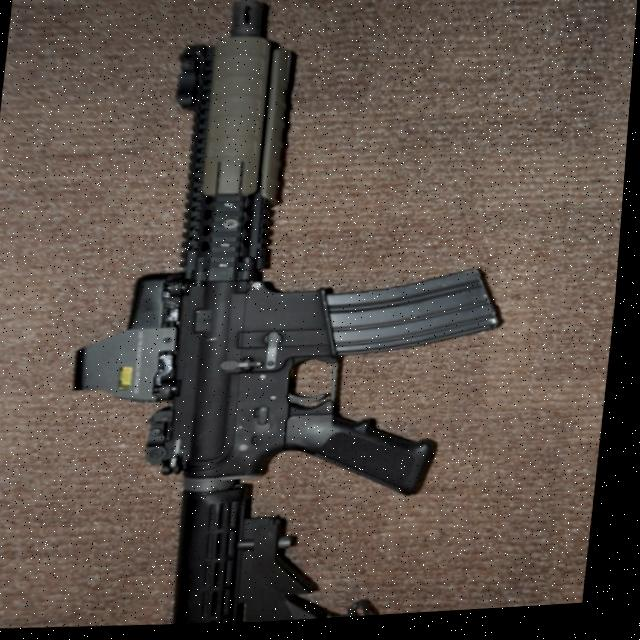firearm: (51, 0, 542, 636)
